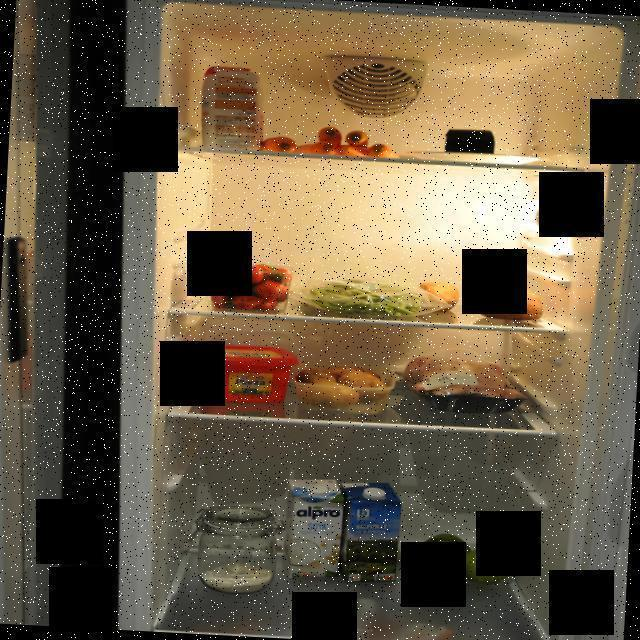apple: (406, 526, 520, 598)
butter: (190, 342, 298, 404)
carrot: (260, 121, 406, 163)
cheese: (441, 126, 500, 156)
chicken: (392, 351, 530, 417)
flour: (194, 498, 278, 599)
green_beans: (284, 272, 452, 322)
milk: (280, 477, 351, 583), (342, 478, 406, 586)
potato: (290, 354, 400, 418)
strawberries: (204, 258, 294, 314)
sugar: (200, 64, 268, 151)
sweet_potato: (469, 269, 546, 324), (418, 274, 458, 306)
